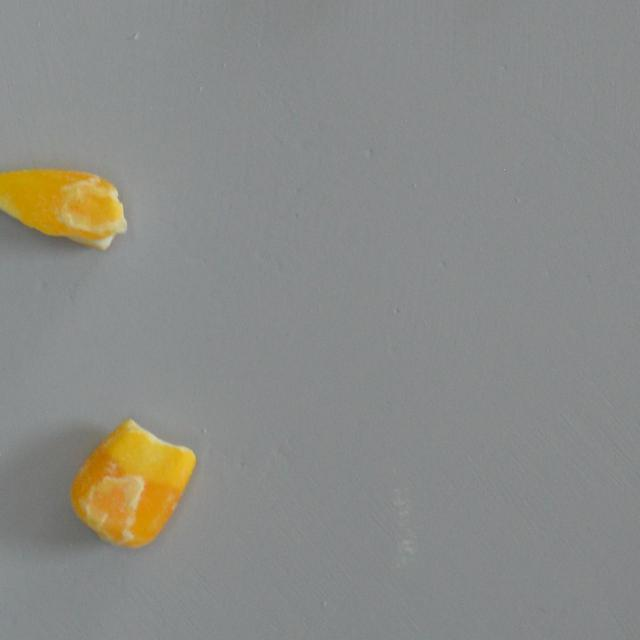pelicula: (62, 424, 196, 545), (9, 118, 90, 283)
